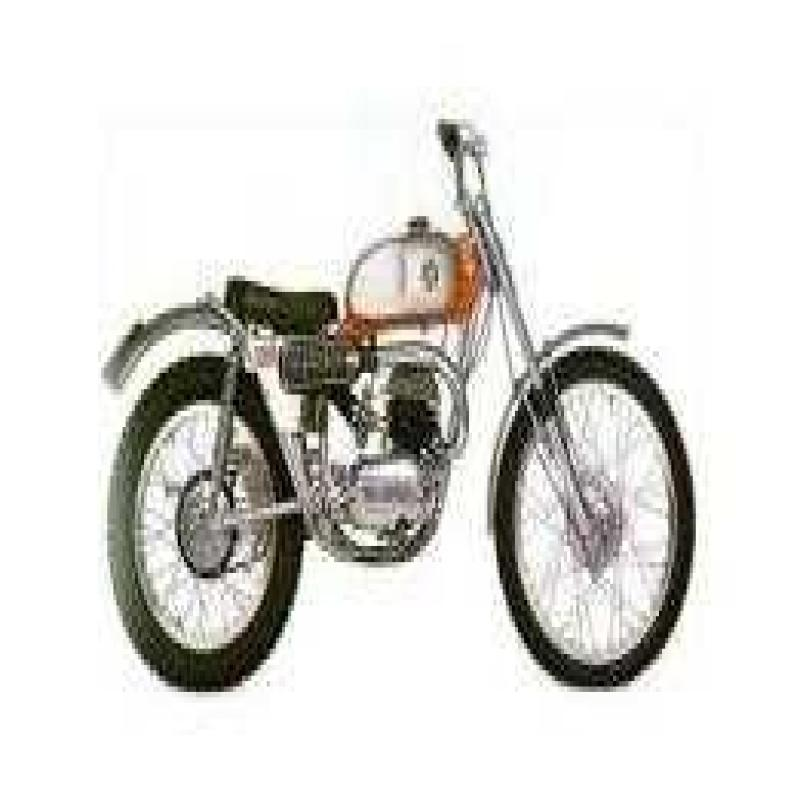bike: (82, 113, 704, 708)
